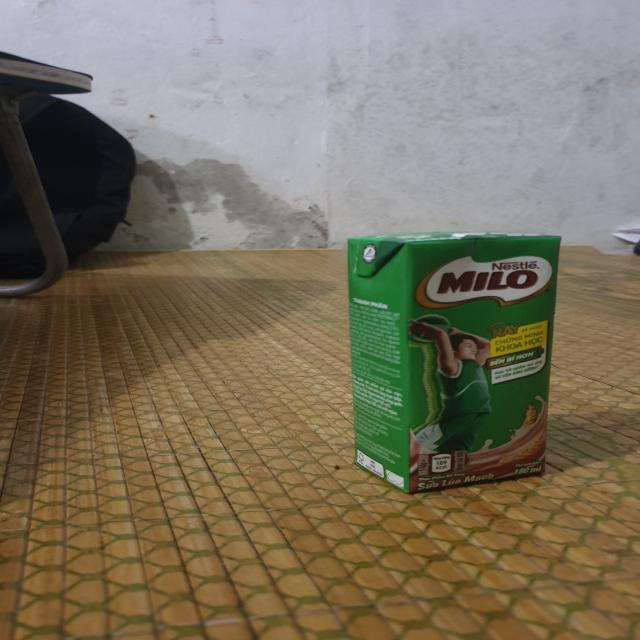Milo: (342, 228, 571, 495)
